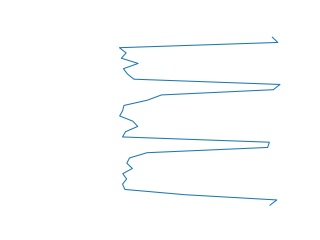majorRiverChannelBar: (116, 37, 285, 206)
